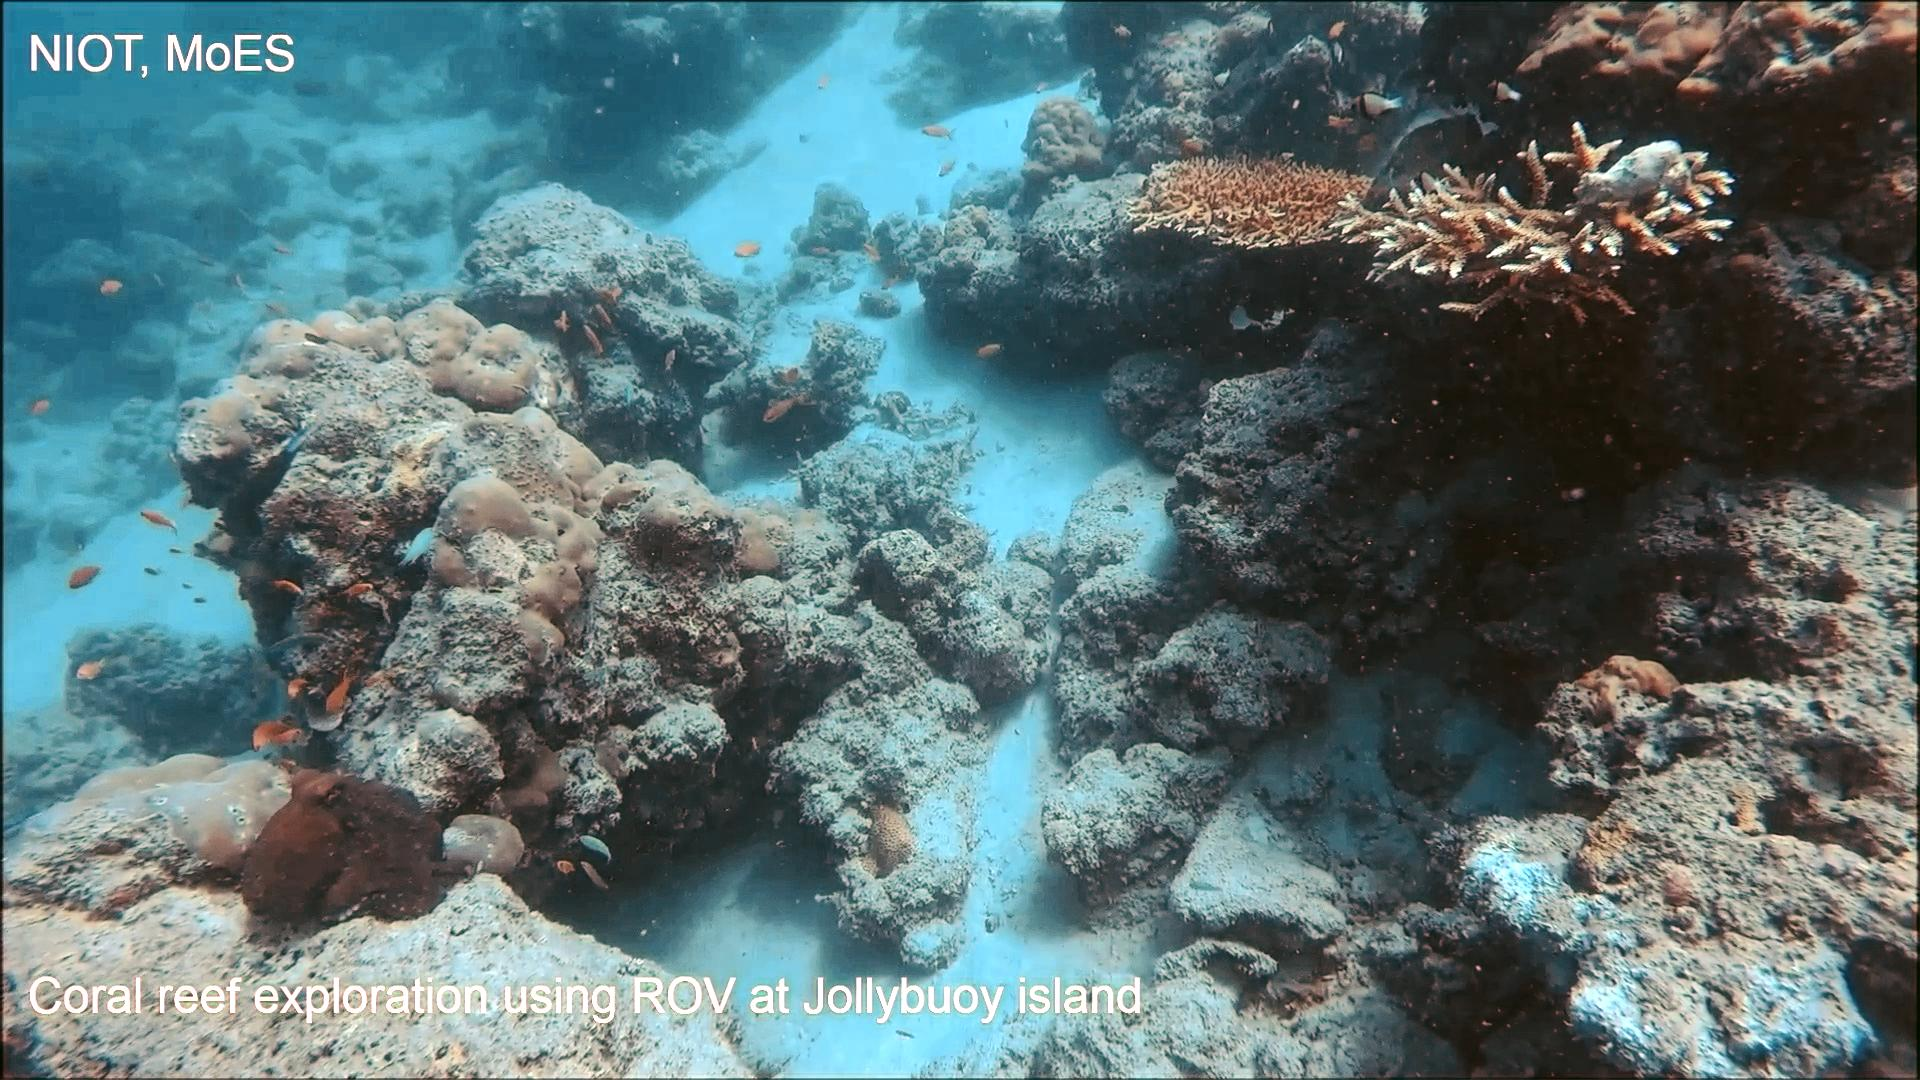Porites-Porites pukoensis: (363, 289, 646, 673)
